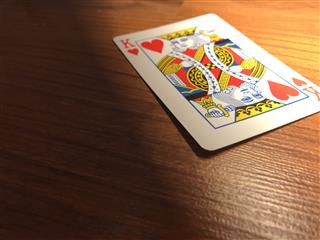KingOfHearts: (112, 12, 320, 150)
